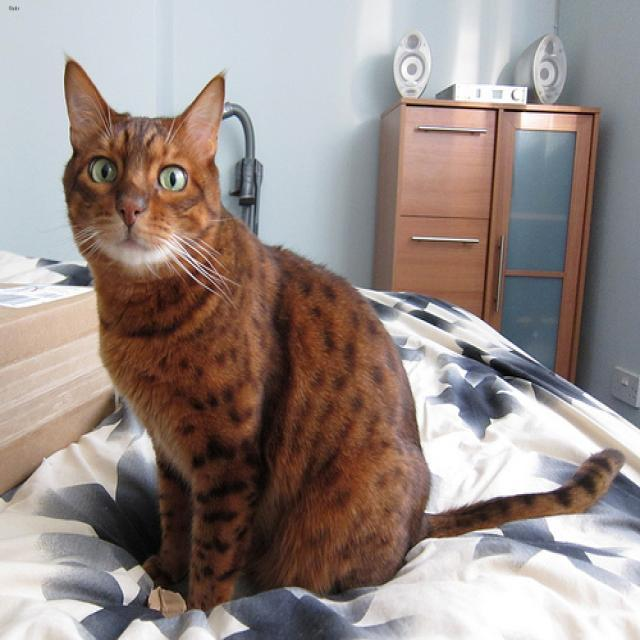Bengal: (53, 58, 231, 294)
